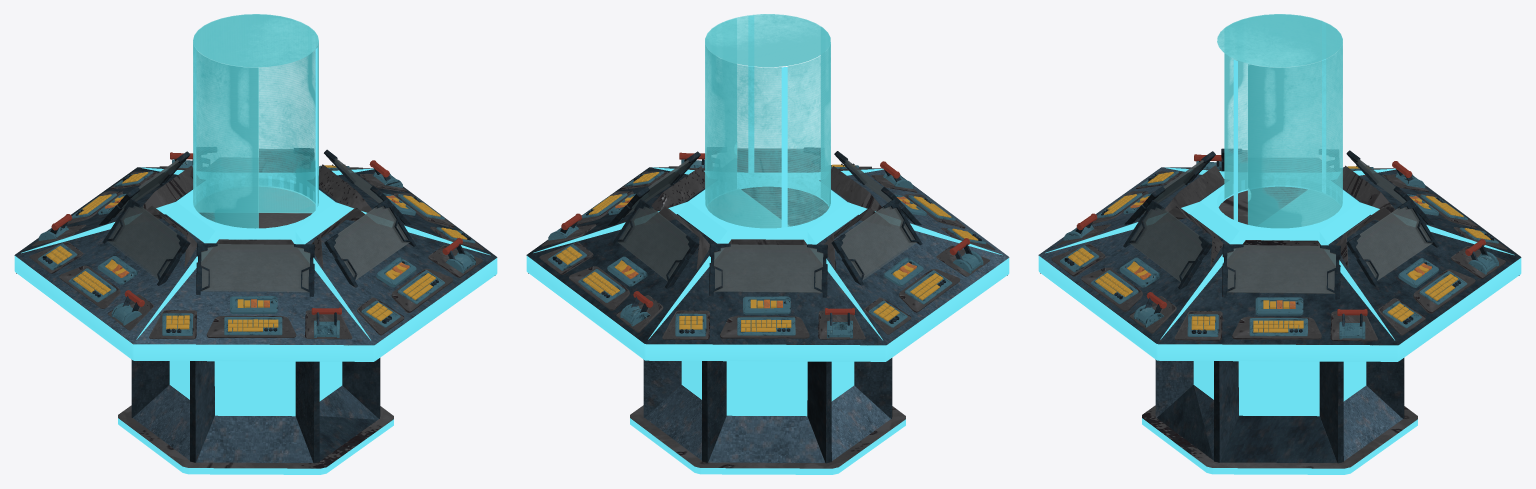
Rendered from Console.glb.
The picture shows the model from 3 angles, left to right: view 1: azimuth 30°, elevation 25°; view 2: azimuth 150°, elevation 25°; view 3: azimuth 270°, elevation 25°; orthographic projection.
Parts seen in each view (by area): view 1: Object_359, Object_26, Object_6, Object_23, defaultMaterial.032, Object_171.014, Object_28, Object_7, Object_203.003, defaultMaterial.005, defaultMaterial.003, defaultMaterial.006 (+6 smaller); view 2: Object_359, Object_26, Object_6, Object_23, defaultMaterial.032, Object_171.014, Object_28, Object_7, Object_203.003, defaultMaterial.005, defaultMaterial.003, defaultMaterial.004 (+6 smaller); view 3: Object_359, Object_26, Object_6, Object_23, defaultMaterial.032, Object_171.014, Object_28, Object_7, defaultMaterial.005, Object_203.003, defaultMaterial.003, defaultMaterial.004 (+6 smaller).
Part boxes in pixels (x1,y1,x2,y2): Object_359: (193, 14, 318, 228); Object_26: (14, 167, 497, 345); Object_6: (16, 273, 495, 463); Object_23: (14, 188, 497, 474); defaultMaterial.032: (107, 149, 409, 292); Object_171.014: (29, 166, 483, 339); Object_28: (21, 167, 490, 340); Object_7: (169, 361, 342, 416); Object_203.003: (142, 158, 371, 268); defaultMaterial.005: (99, 147, 416, 296); defaultMaterial.003: (46, 165, 467, 331); defaultMaterial.006: (68, 193, 444, 335); Object_359: (705, 14, 830, 228); Object_26: (526, 167, 1009, 345); Object_6: (528, 273, 1007, 463); Object_23: (526, 187, 1009, 474); defaultMaterial.032: (617, 148, 916, 292); Object_171.014: (539, 166, 994, 339); Object_28: (533, 167, 1002, 340); Object_7: (681, 361, 854, 416); Object_203.003: (651, 158, 881, 269); defaultMaterial.005: (608, 147, 922, 297); defaultMaterial.003: (556, 164, 978, 331); defaultMaterial.004: (607, 193, 926, 314); Object_359: (1217, 14, 1342, 228); Object_26: (1038, 167, 1521, 345); Object_6: (1040, 273, 1519, 463); Object_23: (1038, 187, 1521, 474); defaultMaterial.032: (1130, 150, 1432, 293); Object_171.014: (1051, 168, 1507, 341); Object_28: (1045, 167, 1514, 340); Object_7: (1193, 361, 1366, 416); defaultMaterial.005: (1123, 148, 1438, 299); Object_203.003: (1165, 158, 1395, 268); defaultMaterial.003: (1068, 166, 1490, 332); defaultMaterial.004: (1119, 193, 1438, 315).
Size of the model in its own units: 3.66 by 3.67 by 4.2.
6 materials, 5 textured.
